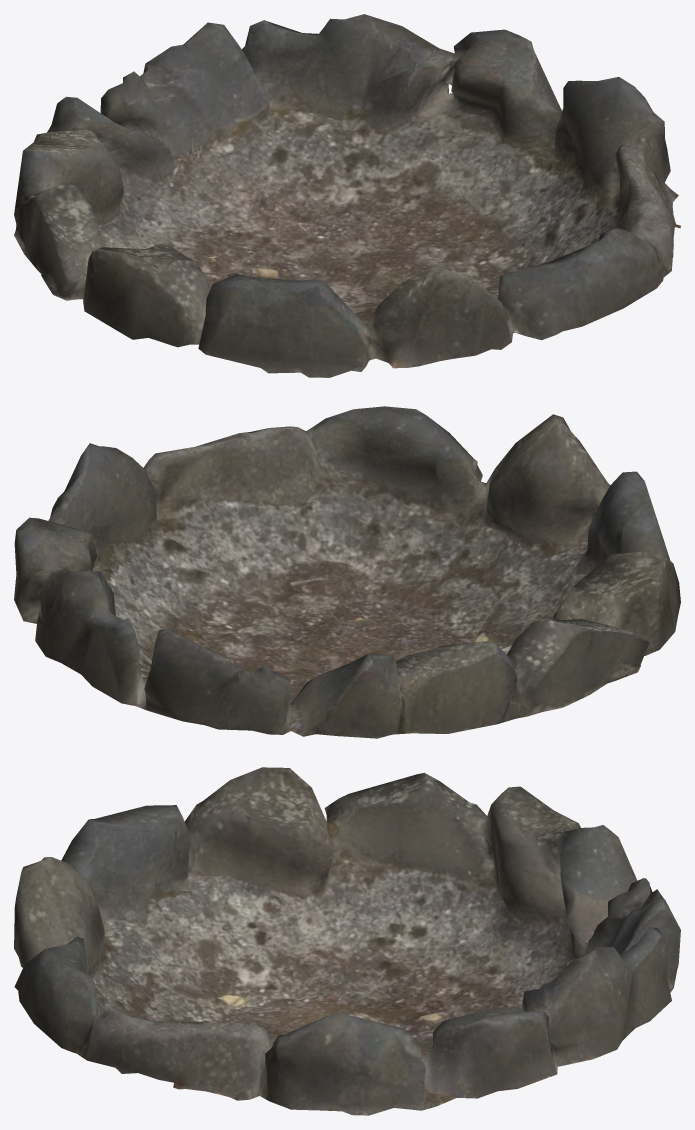
Rendered from stone_fire_pit.glb.
The picture shows the model from 3 angles, top to bottom: view 1: azimuth 30°, elevation 25°; view 2: azimuth 150°, elevation 25°; view 3: azimuth 270°, elevation 25°; orthographic projection.
Visible parts, largest first — view 1: stone_fire_pit; view 2: stone_fire_pit; view 3: stone_fire_pit.
Part boxes in pixels (x1=…): stone_fire_pit: x1=14, y1=14, x2=680, y2=377; stone_fire_pit: x1=14, y1=406, x2=680, y2=738; stone_fire_pit: x1=14, y1=767, x2=680, y2=1115.
Bounding box in the file's own units: 1.45 × 0.3883 × 1.43.
Materials: 1 (1 with a texture image).
